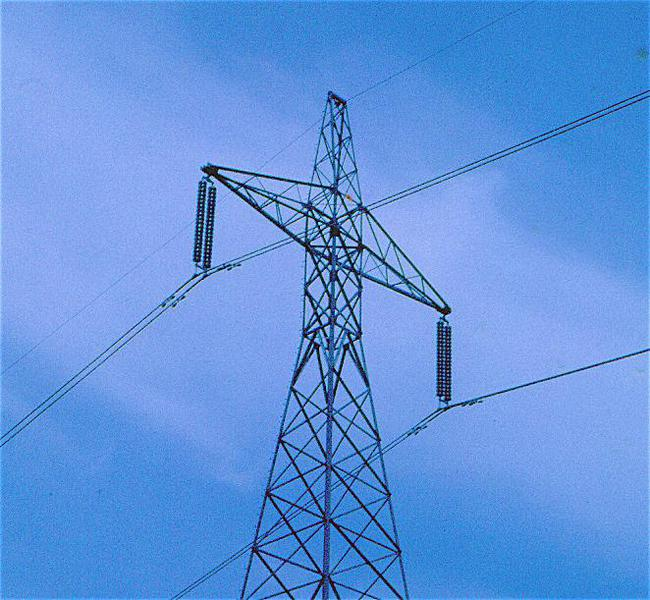isolator: (191, 179, 218, 272), (434, 319, 454, 402)
